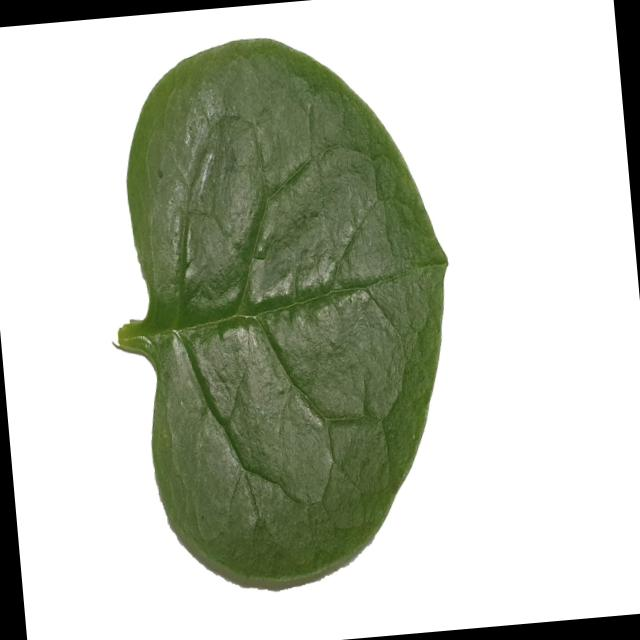Medicinal-Basale: (89, 21, 476, 606)
